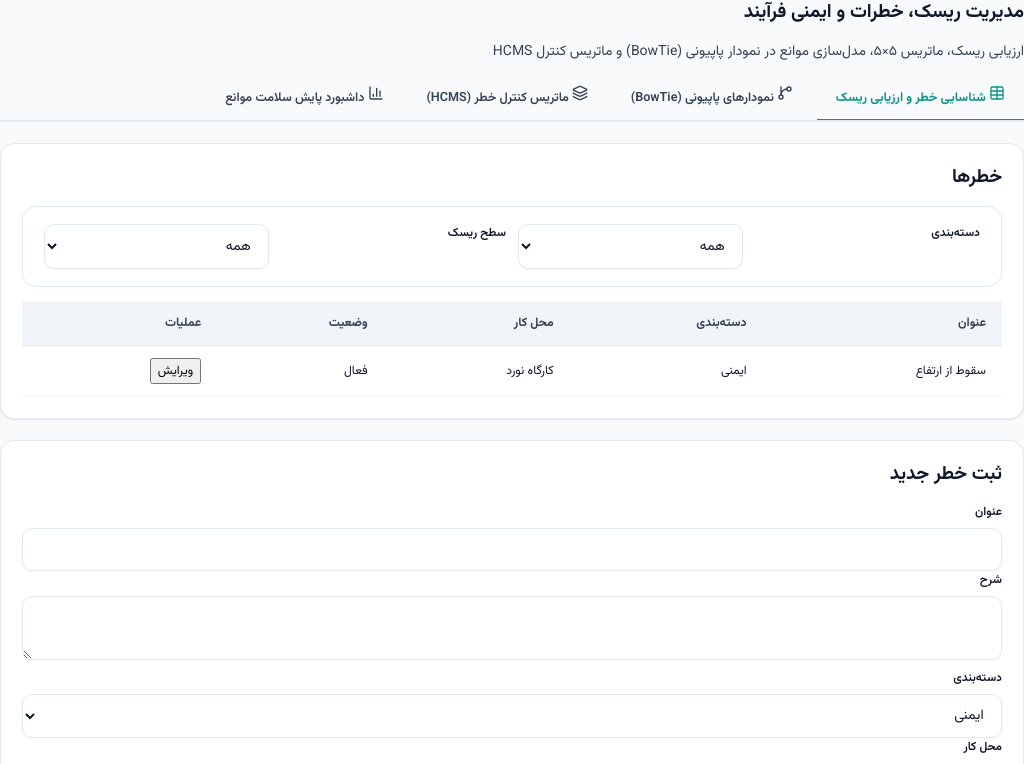
it: RisksPage — Phase 11 BowTie & HCMS › switches to Process Safety & Barrier Health summary tab
Click the button "داشبورد پایش سلامت موانع". click: [304, 98]
box: top-left (206, 75), bottom-right (403, 122)
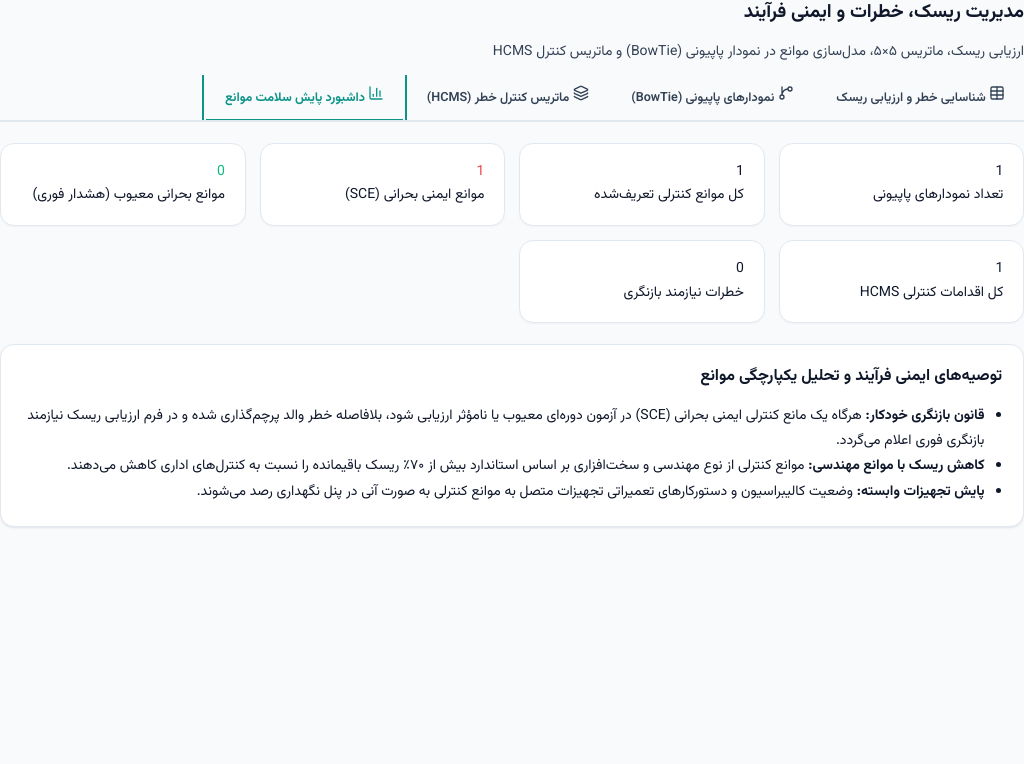
Expected: the text "تعداد نمودارهای پاپیونی" is shown, top-left (873, 184), bottom-right (1003, 206)
Expected: the text "موانع ایمنی بحرانی (SCE)" is shown, top-left (345, 184), bottom-right (484, 206)
Expected: the heading "توصیه‌های ایمنی فرآیند و تحلیل یکپارچگی موانع" is shown, top-left (700, 363), bottom-right (1002, 389)
